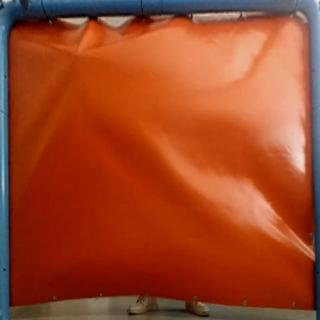Hit-hRxx: (70, 46, 84, 60)
